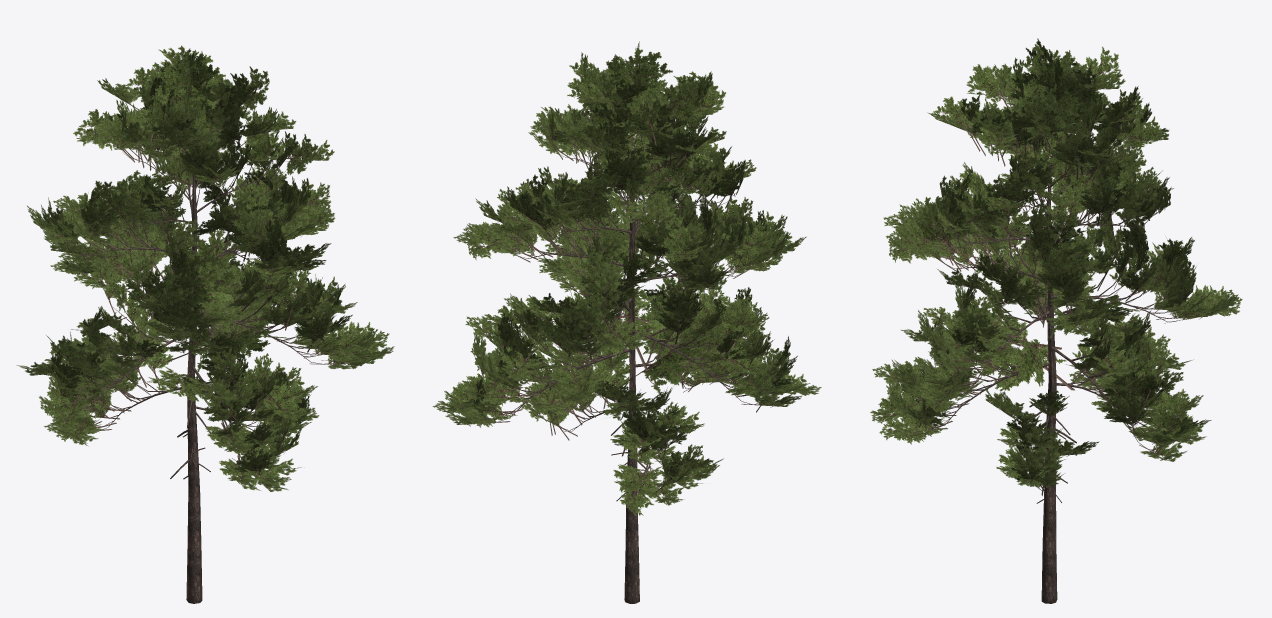
The model's file is tree3.glb.
The picture shows the model from 3 angles, left to right: view 1: azimuth 30°, elevation 25°; view 2: azimuth 150°, elevation 25°; view 3: azimuth 270°, elevation 25°; orthographic projection.
Parts seen in each view (by area): view 1: PineTree; view 2: PineTree; view 3: PineTree.
Part boxes in pixels (bbox=[...]): PineTree: bbox=[16, 45, 394, 603]; PineTree: bbox=[432, 41, 821, 603]; PineTree: bbox=[870, 38, 1242, 603].
Size of the model in its own units: 11.2 by 17.67 by 11.23.
2 materials, 2 textured.
